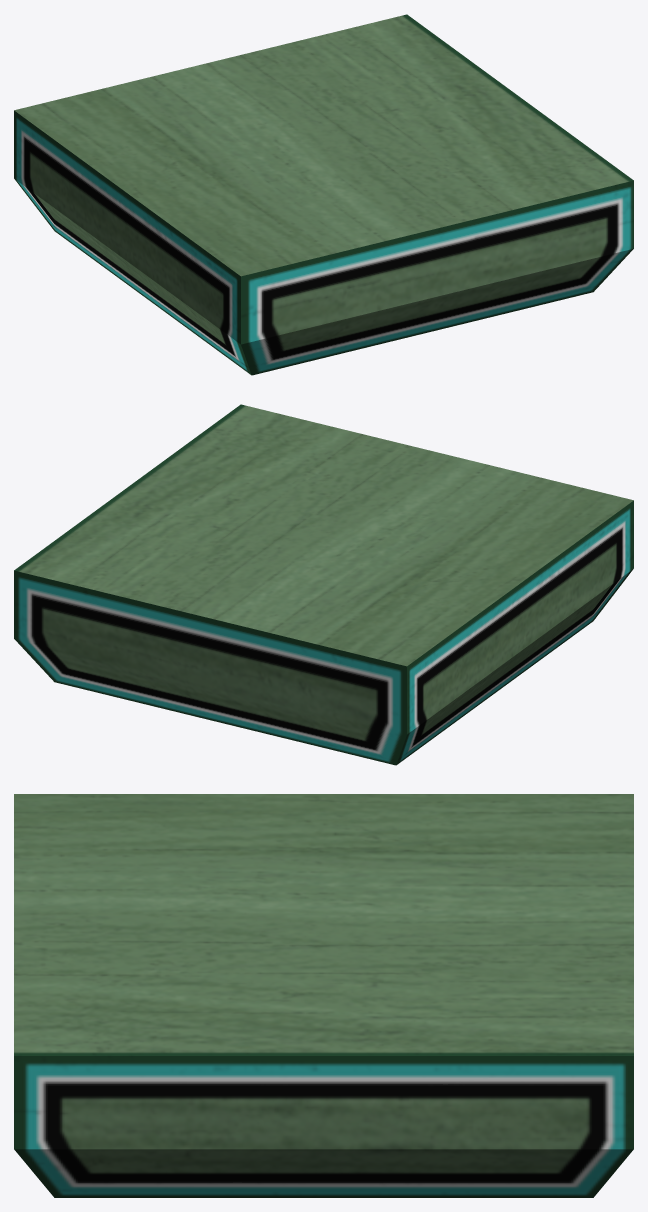
Rendered from SM_GJJ_HG_Capital01A.fbx.
The picture shows the model from 3 angles, top to bottom: view 1: azimuth 30°, elevation 25°; view 2: azimuth 150°, elevation 25°; view 3: azimuth 270°, elevation 25°; orthographic projection. The views are drawn at different scales.
Visible parts, largest first — view 1: SM_GJJ_HG_Capital01A; view 2: SM_GJJ_HG_Capital01A; view 3: SM_GJJ_HG_Capital01A.
Part boxes in pixels (x1,y1,x2,y2): SM_GJJ_HG_Capital01A: [14, 14, 633, 375]; SM_GJJ_HG_Capital01A: [14, 404, 633, 765]; SM_GJJ_HG_Capital01A: [14, 794, 633, 1197].
Size of the model in its own units: 46 by 46 by 13.
Materials: 1 (1 with a texture image).
